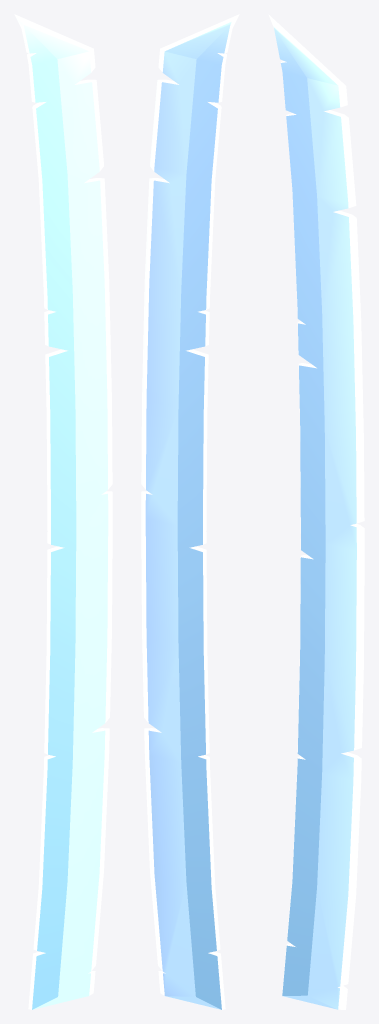
File: steel_blade_scratched_057.glb
The picture shows the model from 3 angles, left to right: view 1: azimuth 30°, elevation 25°; view 2: azimuth 150°, elevation 25°; view 3: azimuth 330°, elevation 25°; orthographic projection. The views are drawn at different scales.
Visible parts, largest first — view 1: steel_blade_scratched.057; view 2: steel_blade_scratched.057; view 3: steel_blade_scratched.057.
Boxes of the visible parts, box(x1,y1,x2,y2) form: steel_blade_scratched.057: box(14, 14, 112, 1009); steel_blade_scratched.057: box(141, 14, 239, 1009); steel_blade_scratched.057: box(268, 14, 364, 1009).
Bounding box in the file's own units: 1.22 × 11.77 × 0.0749.
1 material, 1 textured.
